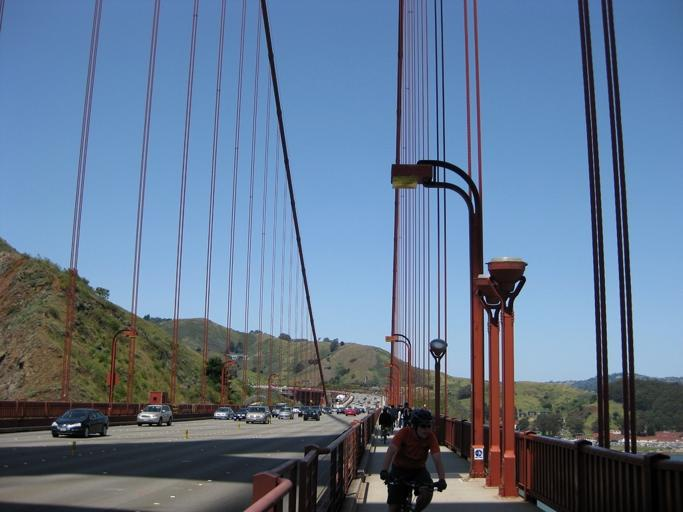non-vehicle: (379, 472, 444, 511), (380, 424, 390, 444)
